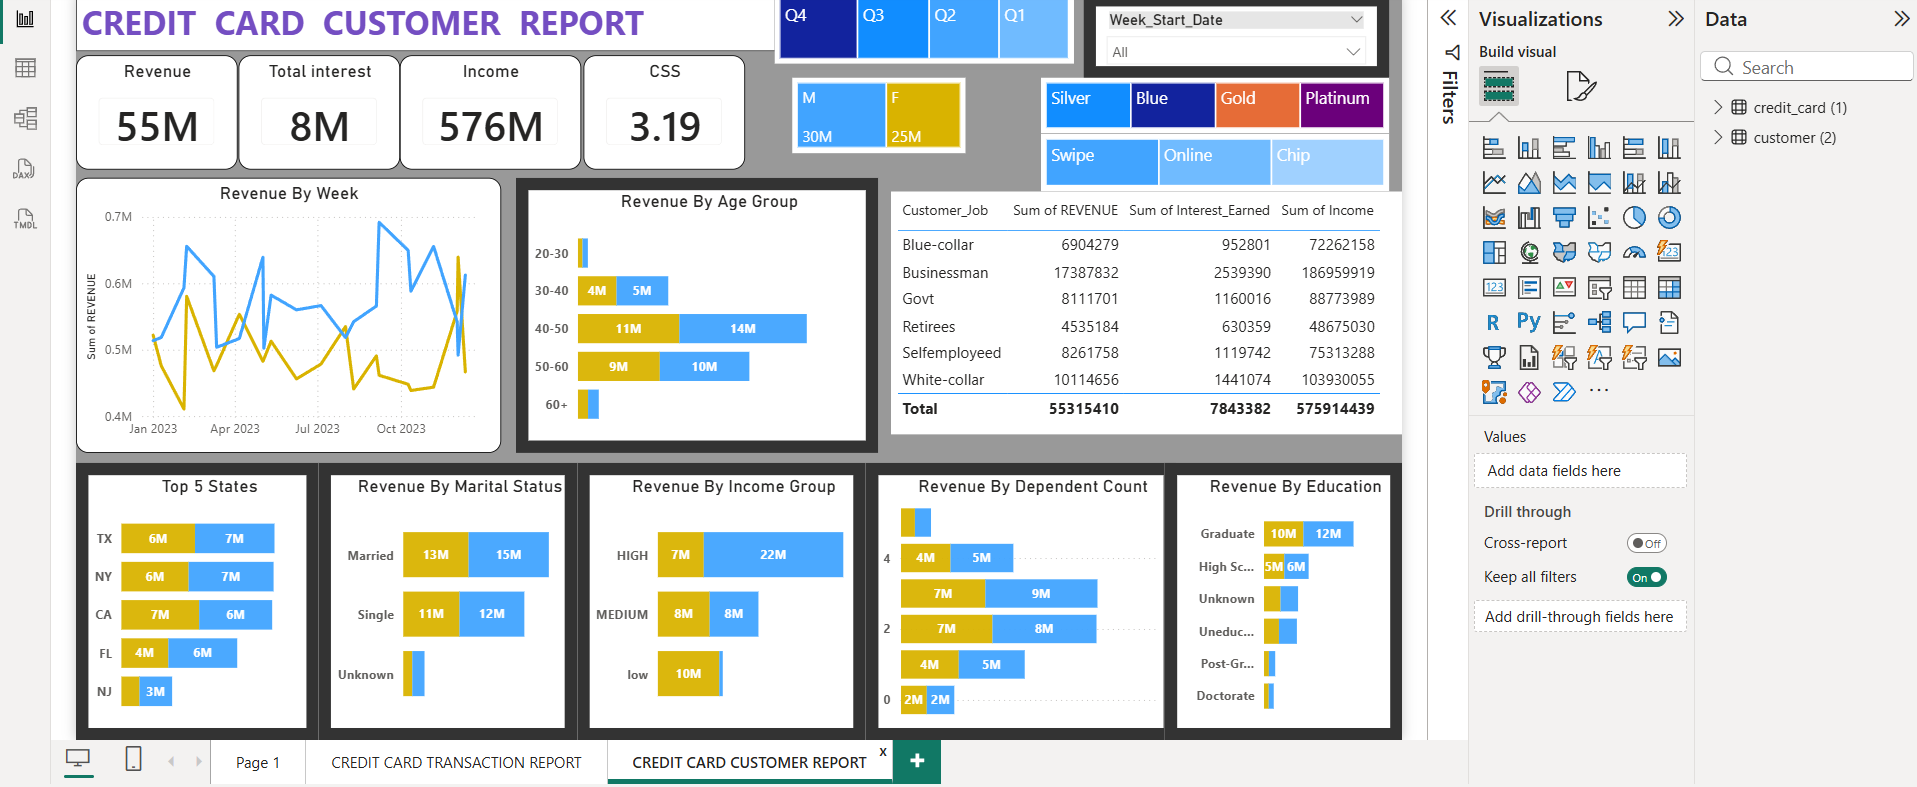

The dashboard page shown, as its layout file describes it:
{"tool":"powerbi","page":{"name":"CREDIT CARD CUSTOMER REPORT","canvas":[1280,720],"ordinal":2},"visuals":[{"type":"barChart","title":"Revenue By Income Group","fields":{"Y":["Sum(credit_card (1).REVENUE)"],"Category":["customer (2).INCOMEGROUP"],"Series":["customer (2).Gender"]},"box":[483.8,452.4,278.7,267.8],"z":0},{"type":"tableEx","fields":{"Values":["customer (2).Customer_Job","Sum(credit_card (1).REVENUE)","Sum(credit_card (1).Interest_Earned)","Sum(customer (2).Income)"]},"box":[786.6,190.6,493.4,234],"z":1000},{"type":"slicer","fields":{"Values":["credit_card (1).Week_Start_Date"]},"box":[972.5,0,295,81.2],"z":2000},{"type":"treemap","fields":{"Group":["credit_card (1).Card_Category"],"Values":["Avg(customer (2).Client_Num)"]},"box":[931.2,81.2,336.2,53.8],"z":3000},{"type":"cardVisual","title":"Revenue","fields":{"Data":["Sum(credit_card (1).REVENUE)"]},"box":[0,58.8,156.2,110],"z":4000},{"type":"cardVisual","title":"Income","fields":{"Data":["Sum(customer (2).Income)"]},"box":[312.5,58.8,175,110],"z":5000},{"type":"cardVisual","title":"CSS","fields":{"Data":["Avg(customer (2).Cust_Satisfaction_Score)"]},"box":[490,58.8,156,110],"z":6000},{"type":"cardVisual","title":"Total interest","fields":{"Data":["Sum(credit_card (1).Interest_Earned)"]},"box":[156.2,58.8,156.2,110],"z":7000},{"type":"textbox","box":[0,0,675,55],"z":8000},{"type":"treemap","fields":{"Group":["credit_card (1).Qtr","customer (2).Gender"],"Values":["Avg(customer (2).Client_Num)"]},"box":[675,0,288.8,67.5],"z":9000},{"type":"lineChart","title":"Revenue By Week","fields":{"Y":["Sum(credit_card (1).REVENUE)"],"Series":["customer (2).Gender"],"Category":["credit_card (1).Week_Start_Date.Variation.Date Hierarchy.Year","credit_card (1).Week_Start_Date.Variation.Date Hierarchy.Month","credit_card (1).Week_Start_Date.Variation.Date Hierarchy.Day"]},"box":[0,177.3,410.2,265.4],"z":10000},{"type":"treemap","fields":{"Group":["customer (2).Gender"],"Values":["Sum(credit_card (1).REVENUE)"]},"box":[691.2,81.2,167.5,72.5],"z":11000},{"type":"barChart","title":"Revenue By Age Group","fields":{"Y":["Sum(credit_card (1).REVENUE)"],"Category":["customer (2).AGEGROUP"],"Series":["customer (2).Gender"]},"box":[424.7,177.3,349.9,265.4],"z":12000},{"type":"barChart","title":"Revenue By Dependent Count","fields":{"Y":["Sum(credit_card (1).REVENUE)"],"Category":["customer (2).Dependent_Count"],"Series":["customer (2).Gender"]},"box":[762.5,452.4,299.2,267.8],"z":13000},{"type":"barChart","title":"Top 5 States","fields":{"Y":["Sum(credit_card (1).REVENUE)"],"Category":["customer (2).state_cd"],"Series":["customer (2).Gender"]},"box":[0,452.4,234,267.8],"z":14000},{"type":"barChart","title":"Revenue By Education","fields":{"Y":["Sum(credit_card (1).REVENUE)"],"Category":["customer (2).Education_Level"],"Series":["customer (2).Gender"]},"box":[1050.8,452.4,229.2,267.8],"z":15000},{"type":"barChart","title":"Revenue By Marital Status","fields":{"Y":["Sum(credit_card (1).REVENUE)"],"Category":["customer (2).Marital_Status"],"Series":["customer (2).Gender"]},"box":[234,452.4,249.7,267.8],"z":16000},{"type":"treemap","fields":{"Group":["credit_card (1).Use Chip"],"Values":["Avg(customer (2).Client_Num)"]},"box":[931.2,135,336.2,55],"z":17000}]}

Visuals, with their boxes in screenshot pixels (x1, y1, x2, y2):
"Revenue By Income Group" barChart: 574, 461, 864, 741
tableEx - customer (2).Customer_Job x Sum(credit_card (1).REVENUE): 890, 189, 1404, 432
slicer - credit_card (1).Week_Start_Date: 1083, 0, 1391, 75
treemap - credit_card (1).Card_Category x Avg(customer (2).Client_Num): 1040, 75, 1391, 131
"Revenue" cardVisual: 70, 51, 233, 166
"Income" cardVisual: 396, 51, 578, 166
"CSS" cardVisual: 580, 51, 743, 166
"Total interest" cardVisual: 233, 51, 395, 166
textbox: 70, 0, 773, 47
treemap - credit_card (1).Qtr x customer (2).Gender: 773, 0, 1074, 60
"Revenue By Week" lineChart: 70, 175, 497, 451
treemap - customer (2).Gender x Sum(credit_card (1).REVENUE): 790, 75, 965, 150
"Revenue By Age Group" barChart: 512, 175, 877, 451
"Revenue By Dependent Count" barChart: 864, 461, 1176, 741
"Top 5 States" barChart: 70, 461, 314, 741
"Revenue By Education" barChart: 1165, 461, 1404, 741
"Revenue By Marital Status" barChart: 314, 461, 574, 741
treemap - credit_card (1).Use Chip x Avg(customer (2).Client_Num): 1040, 131, 1391, 188
